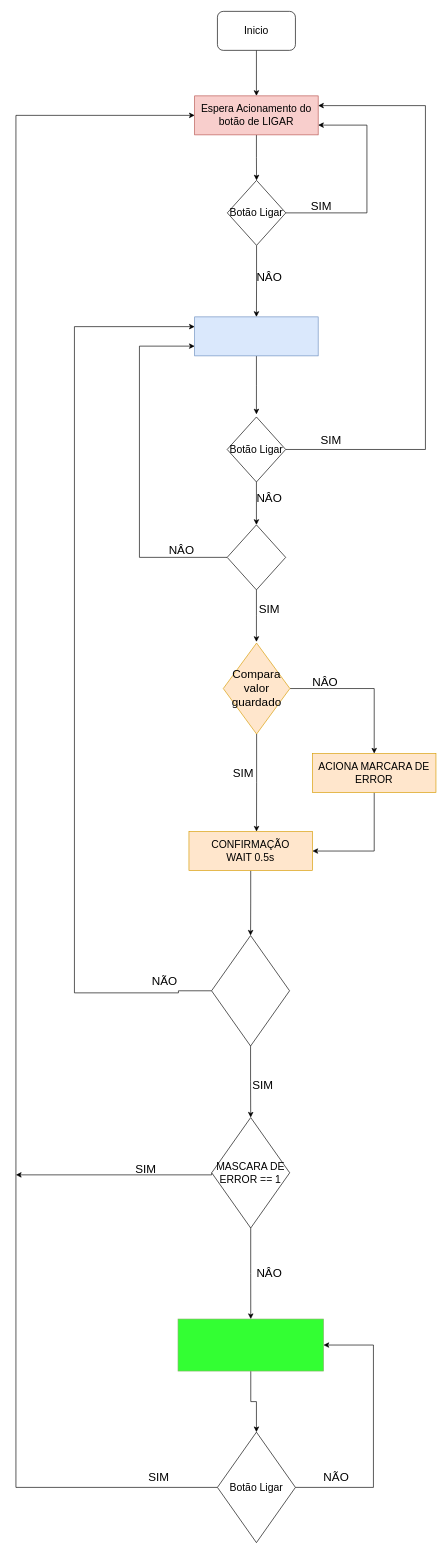
This 448x1554 diagram has some shape labels left out. The shapes that lost their labels are listed below. From the top down, each one's centre as x and y in pixels, then its label:
At point (256, 336): "Espera Ajuste de Valor".
At point (256, 557): "Botão ADD".
At point (250, 990): "Cont == 3".
At point (250, 1344): "ABRIR COFRE".
